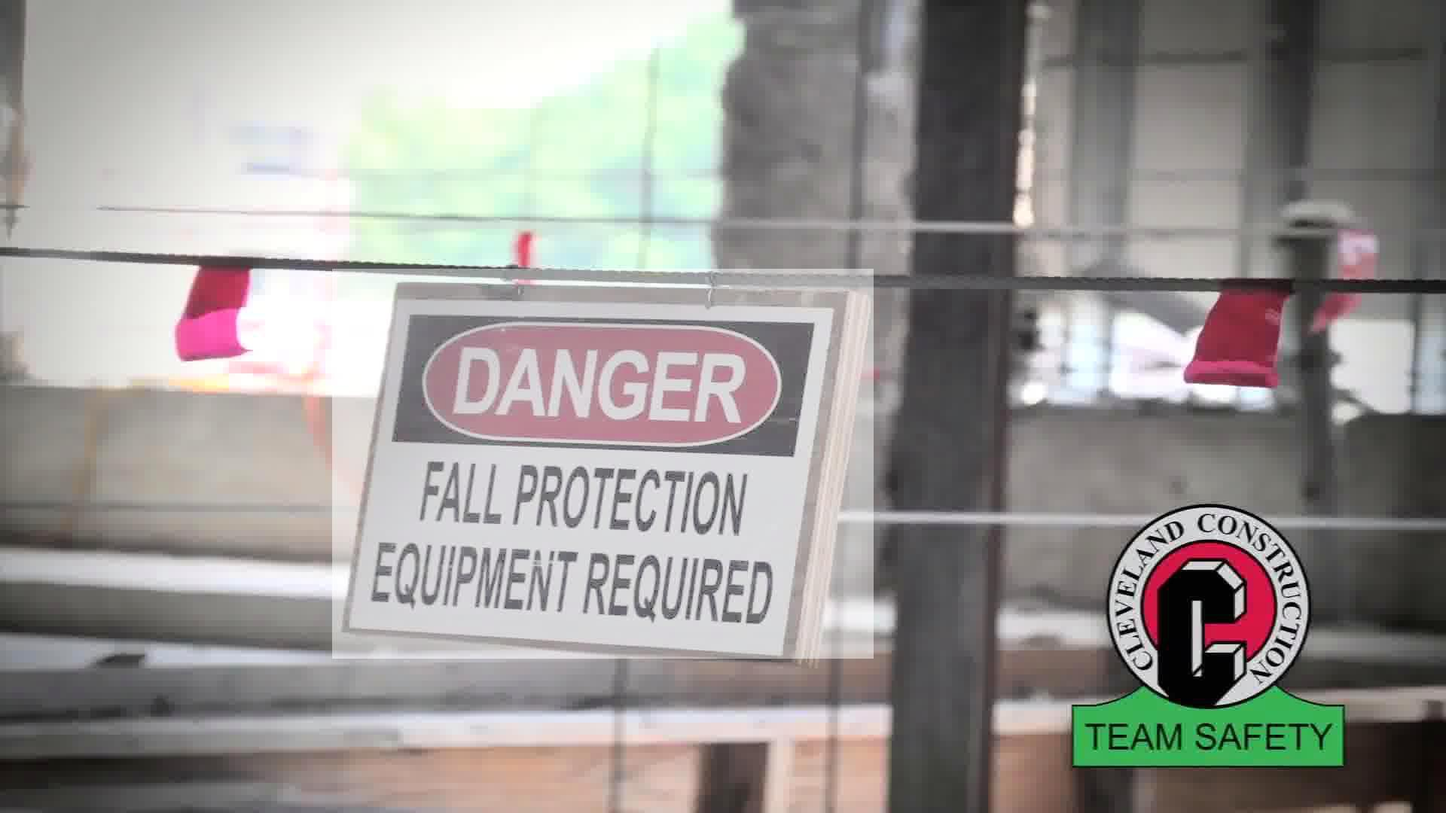safety_signage: (332, 269, 874, 659)
